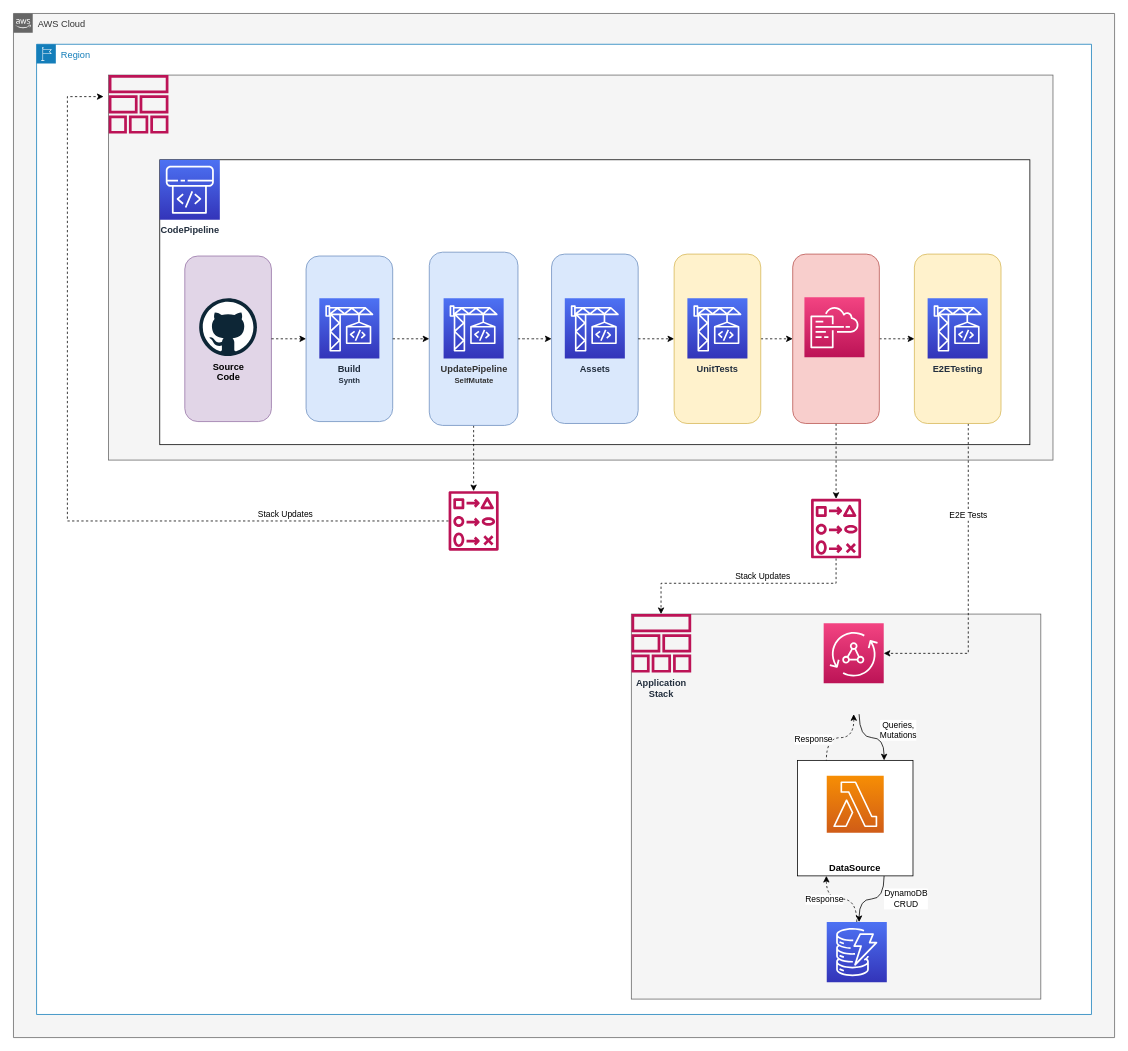
Image size: 1128x1051. Some labels were removed from this diagram. The shapes that lost their labels are listed below. From the top down, each one's centre as x and y in pixels, then its label:
At (x=138, y=104): "Pipeline Stack".
At (x=834, y=326): "DeployAlpha".
At (x=853, y=653): "AppSync GraphQL API".
At (x=855, y=804): "NotesHandler Lambda".
At (x=856, y=951): "Notes Table".
